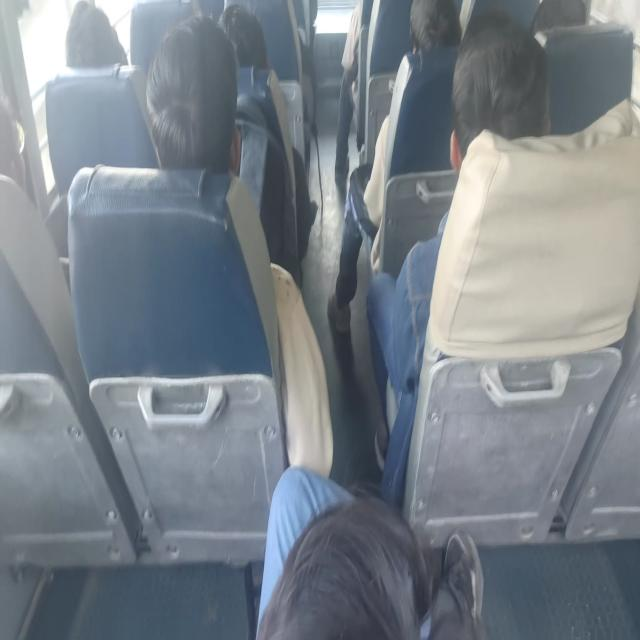person: (255, 493, 467, 640), (452, 25, 542, 183), (147, 43, 240, 188), (56, 0, 130, 72), (205, 1, 271, 66), (400, 0, 469, 58), (0, 86, 35, 190), (532, 0, 589, 41)
